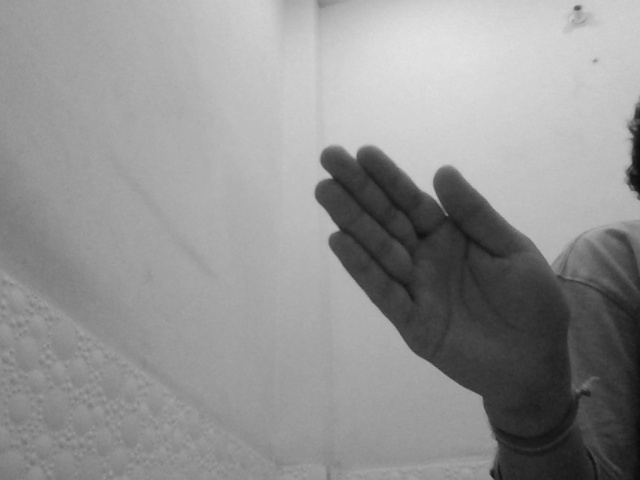Hello: (313, 142, 573, 406)
